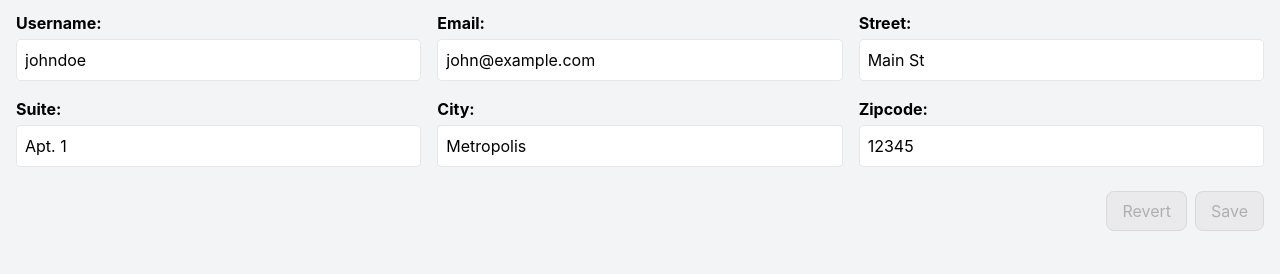
UserForm › should show validation errors for required fields
The width and height of the screenshot is (1280, 274).
Clear the field with placeholder "Username" below "Username:" at (219, 60), box [16,39,421,81]
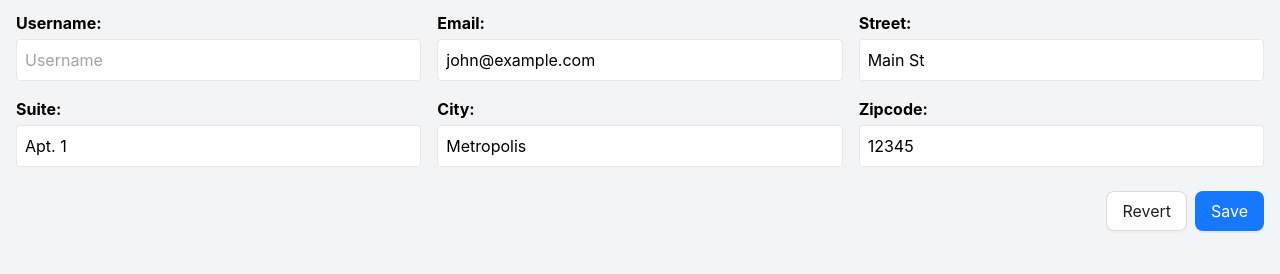
Submit the form from the button with test id "save-btn", box [1195,191,1264,231]
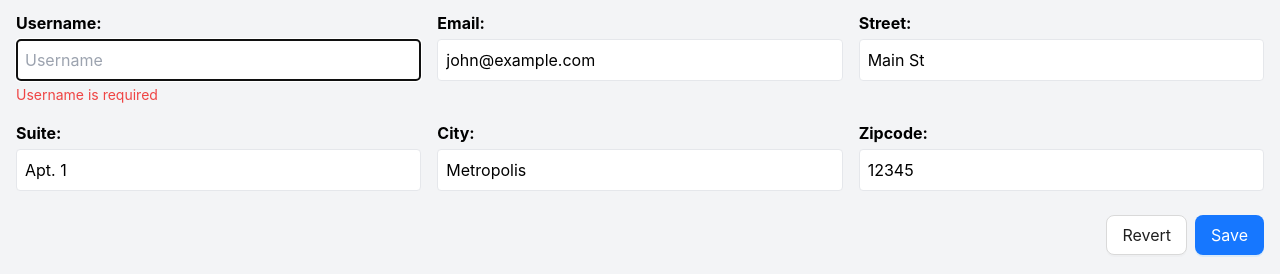
Result: the text "Username is required" is shown at [16,86,158,103]
